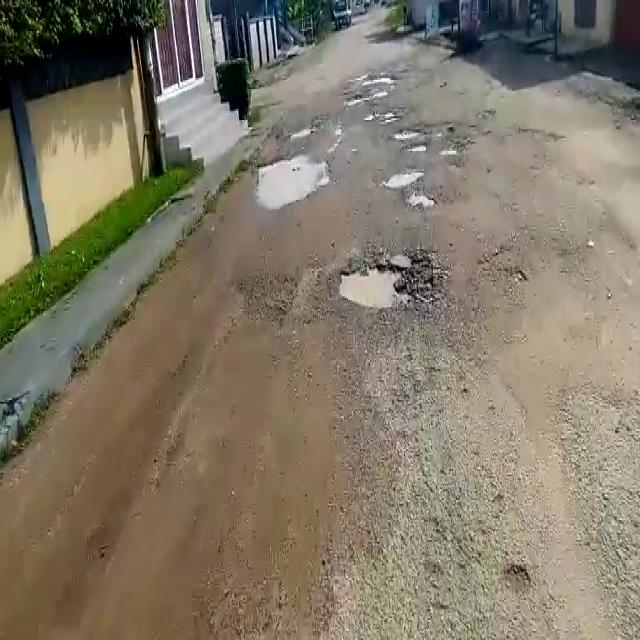Pothole: (334, 252, 438, 312), (250, 150, 330, 209), (381, 167, 424, 189), (404, 190, 443, 211), (366, 109, 402, 124), (391, 126, 421, 139), (438, 146, 460, 157), (404, 145, 428, 155)
